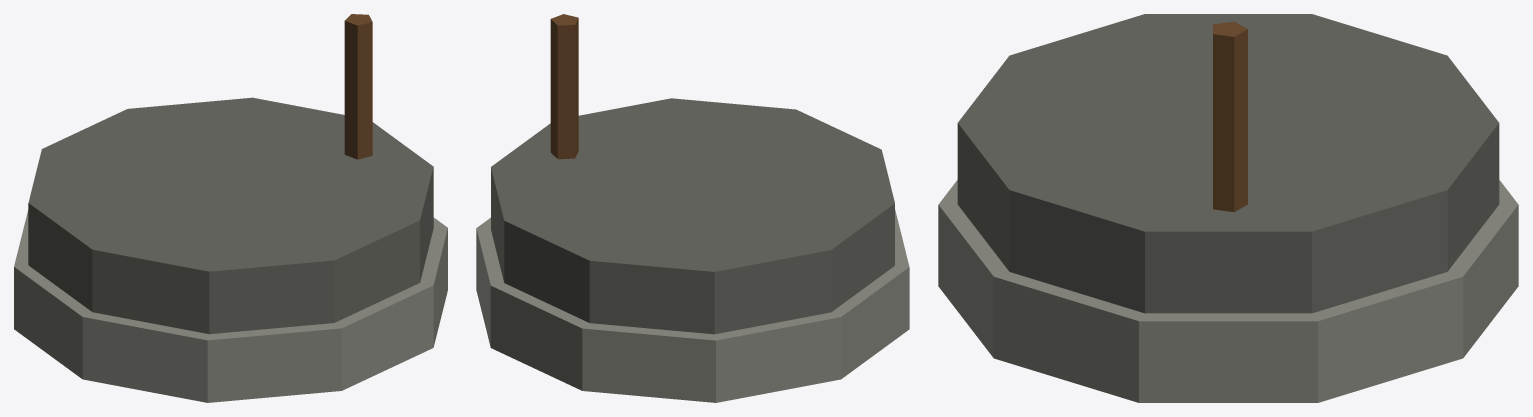
The model's file is prop_millstone.glb.
The picture shows the model from 3 angles, left to right: view 1: azimuth 30°, elevation 25°; view 2: azimuth 150°, elevation 25°; view 3: azimuth 270°, elevation 25°; orthographic projection. The views are drawn at different scales.
Parts seen in each view (by area): view 1: prop_millstone; view 2: prop_millstone; view 3: prop_millstone.
Boxes of the visible parts, <box> form: prop_millstone: <box>14,14,447,402</box>; prop_millstone: <box>476,14,909,402</box>; prop_millstone: <box>938,14,1518,402</box>.
Size of the model in its own units: 0.856 by 0.58 by 0.9.
